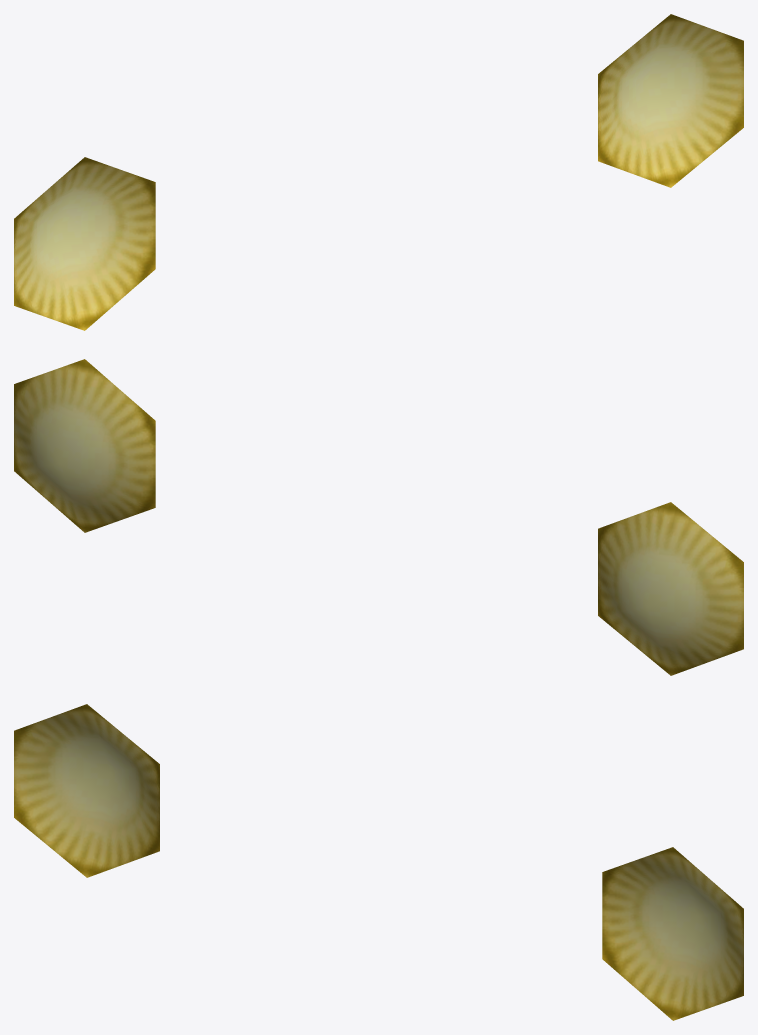
Rendered from awing_engine_s01_on_l1.fbx.
3 views of the same model, one above another, from view 1: azimuth 30°, elevation 25°; view 2: azimuth 150°, elevation 25°; view 3: azimuth 330°, elevation 25° (orthographic).
Parts seen in each view (by area): view 1: mesh_node; view 2: mesh_node; view 3: mesh_node.
Boxes of the visible parts, x1,y1,x2,y2 form: mesh_node: (14, 14, 743, 330); mesh_node: (14, 359, 743, 675); mesh_node: (14, 704, 743, 1020).
Bounding box in the file's own units: 6 × 1.37 × 0.3639.
